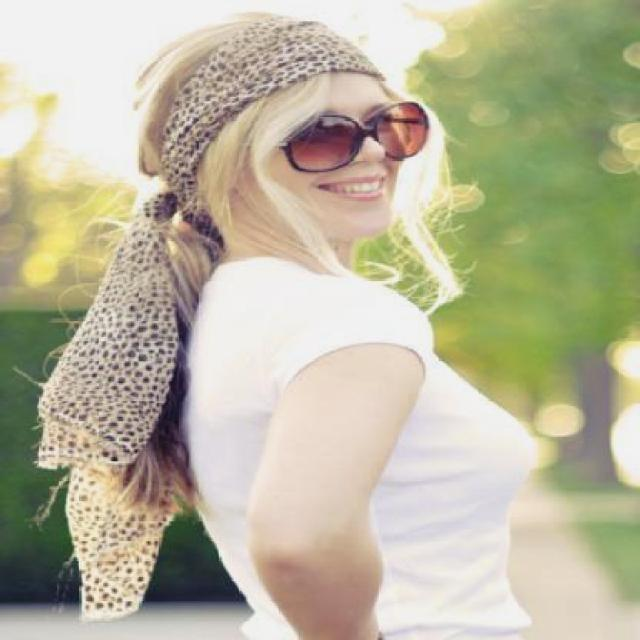face_nomask: (290, 106, 405, 214)
glasses: (235, 86, 420, 162)
head_nohelmet: (153, 4, 376, 102)
person: (111, 7, 562, 640)
